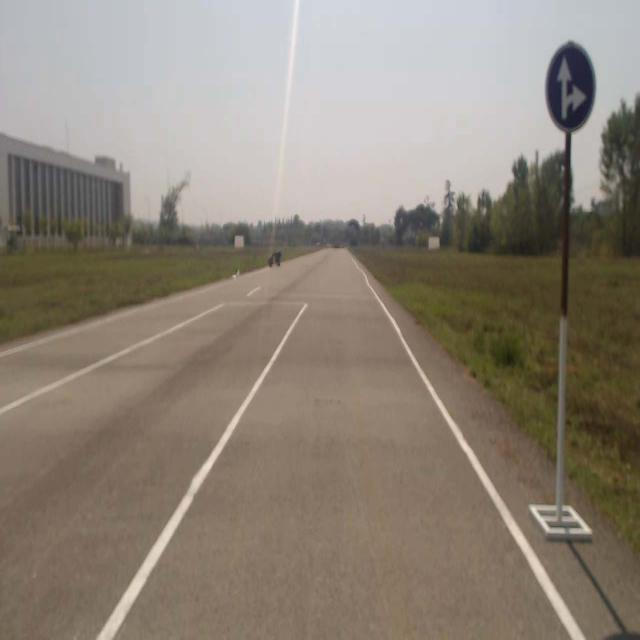ilerisag: (544, 43, 595, 128)
